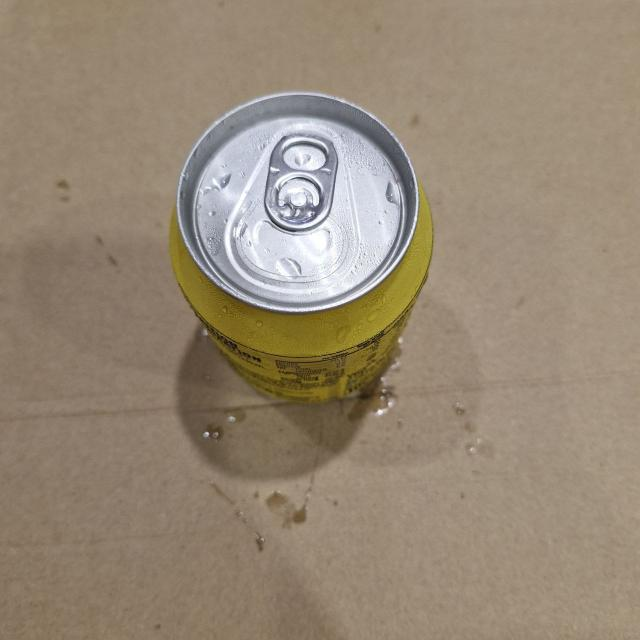metal: (162, 84, 444, 414)
